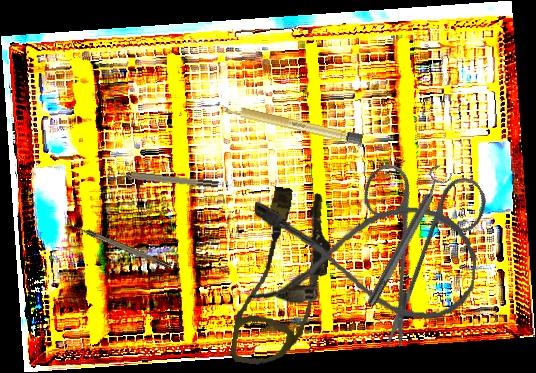Cannula: (246, 193, 481, 323), (229, 183, 338, 373)
Fixation Ring: (358, 162, 456, 311), (106, 165, 219, 195)
Hook Surgical: (67, 221, 173, 270)
Iris Scissors: (303, 127, 530, 353)
Scalpel Handle: (218, 101, 364, 146)
